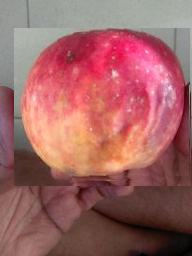Apple Semirotten: (15, 28, 192, 186)
